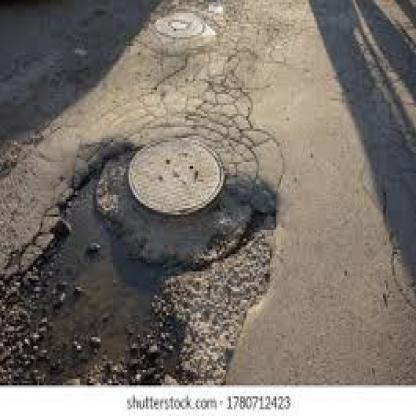manholes: (97, 114, 239, 225)
